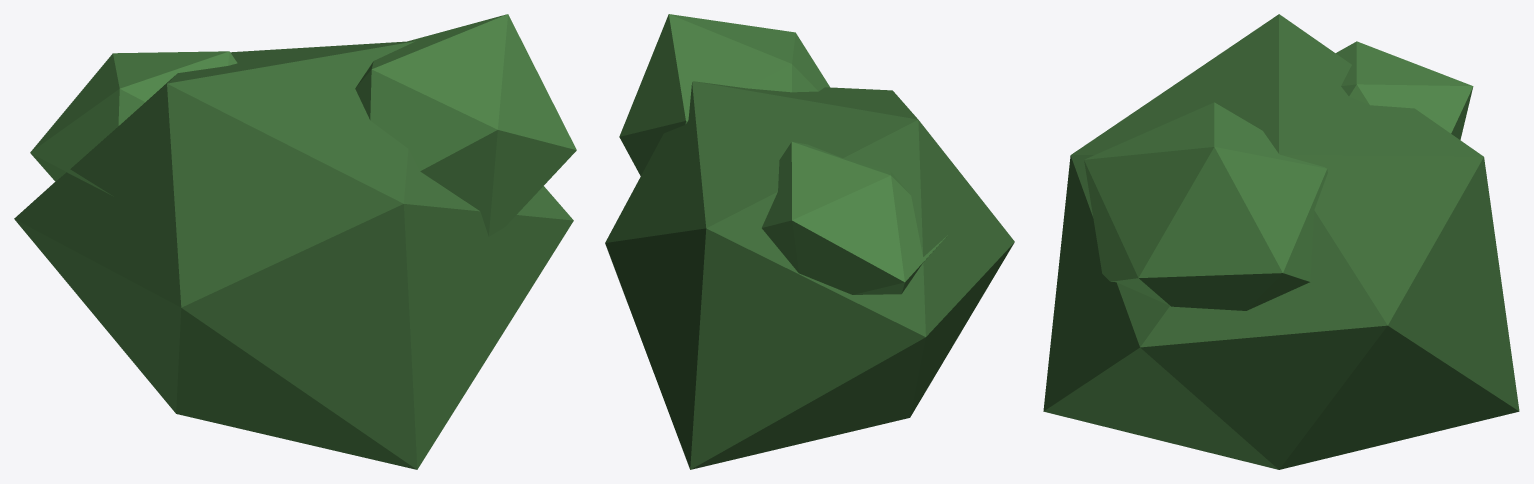
Rendered from nat-arbusto.gltf.
3 renders of one model, left to right at view 1: azimuth 30°, elevation 25°; view 2: azimuth 150°, elevation 25°; view 3: azimuth 270°, elevation 25°, orthographic. The views are drawn at different scales.
Parts seen in each view (by area): view 1: nat-arbusto; view 2: nat-arbusto; view 3: nat-arbusto.
Boxes of the visible parts, left/top/right/bottom form: nat-arbusto: left=14, top=14, right=576, bottom=469; nat-arbusto: left=605, top=14, right=1014, bottom=469; nat-arbusto: left=1043, top=14, right=1519, bottom=469.
Bounding box in the file's own units: 0.7508 × 0.5981 × 0.7357.
